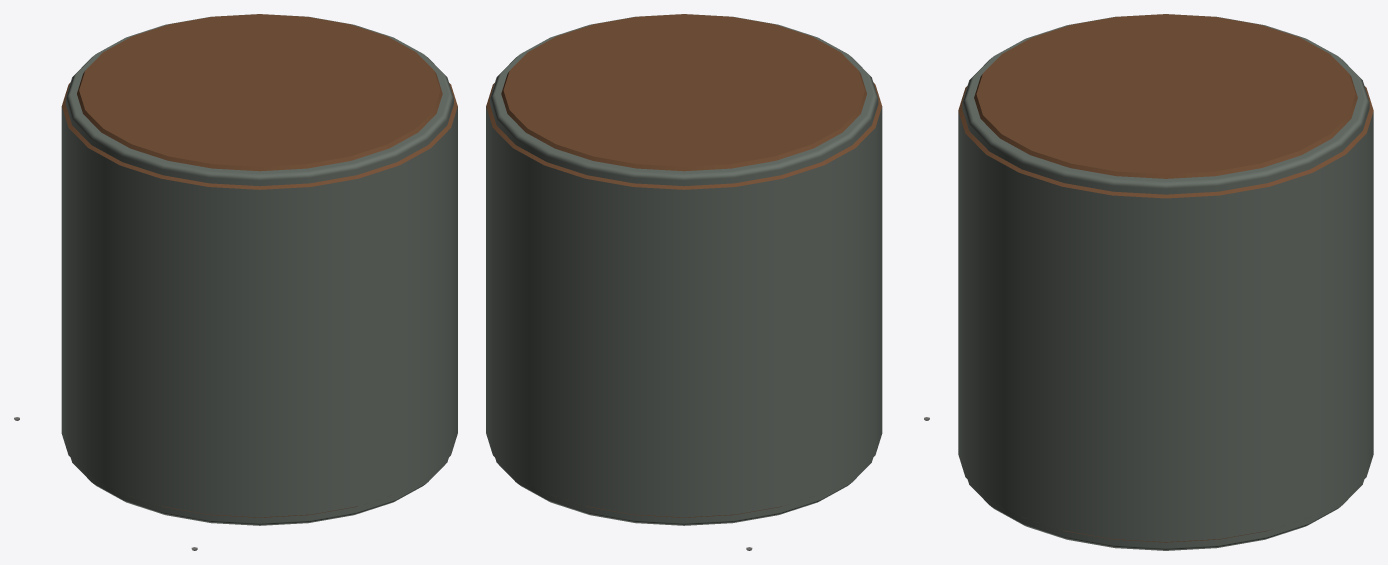
3 renders of one model, left to right at view 1: azimuth 30°, elevation 25°; view 2: azimuth 150°, elevation 25°; view 3: azimuth 270°, elevation 25°, orthographic. The views are drawn at different scales.
Visible parts, largest first — view 1: R4B_Cylinder; view 2: R4B_Cylinder; view 3: R4B_Cylinder.
Part boxes in pixels (x1,y1,x2,y2): R4B_Cylinder: (14,14,457,550); R4B_Cylinder: (486,14,929,550); R4B_Cylinder: (958,14,1373,550).
Bounding box in the file's own units: 0.52 × 0.52 × 0.52.
